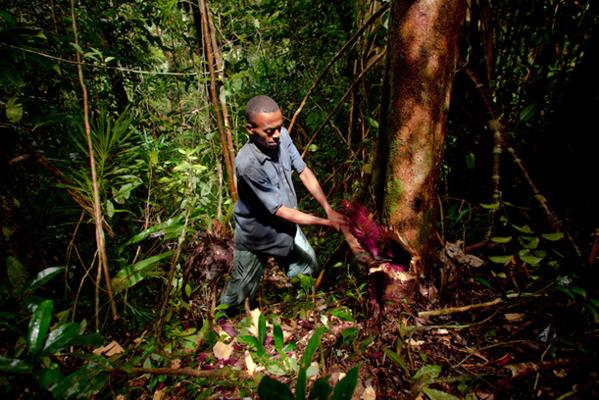person: (221, 93, 351, 320)
